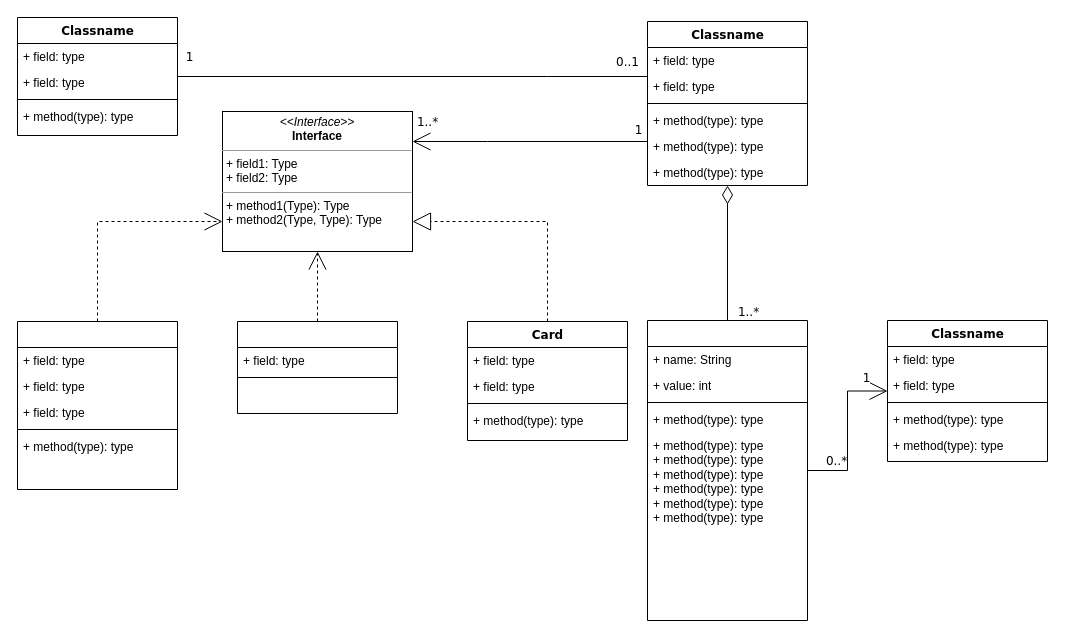
This 1065x641 diagram has some shape labels left out. Here are the shapes that lost their labels. From the top down, the box of each, then its label:
(236, 320, 398, 414): Player
(16, 320, 178, 490): Game
(646, 320, 808, 620): Attribute
